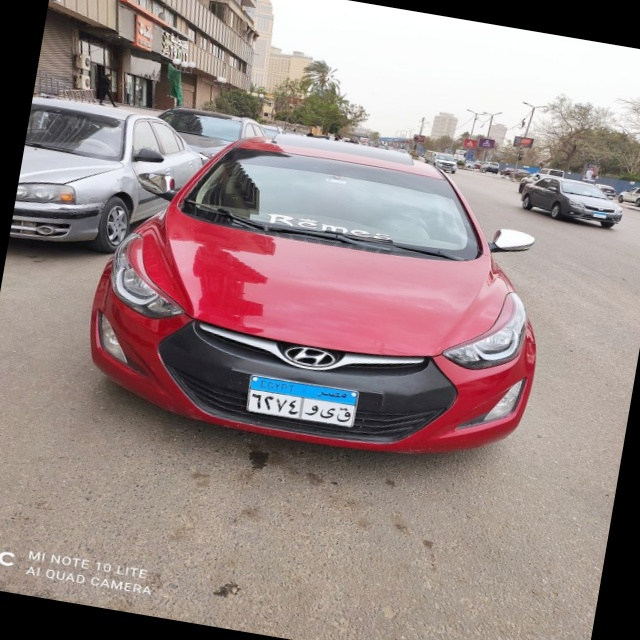License Plate: (243, 372, 361, 431)
